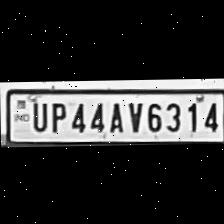1: (181, 98, 199, 131)
3: (161, 98, 181, 132)
4: (84, 98, 106, 132), (198, 98, 220, 131), (66, 98, 86, 131)
6: (142, 98, 162, 131)
A: (104, 97, 125, 132)
P: (46, 97, 66, 131)
U: (28, 98, 48, 131)
V: (123, 96, 143, 130)
